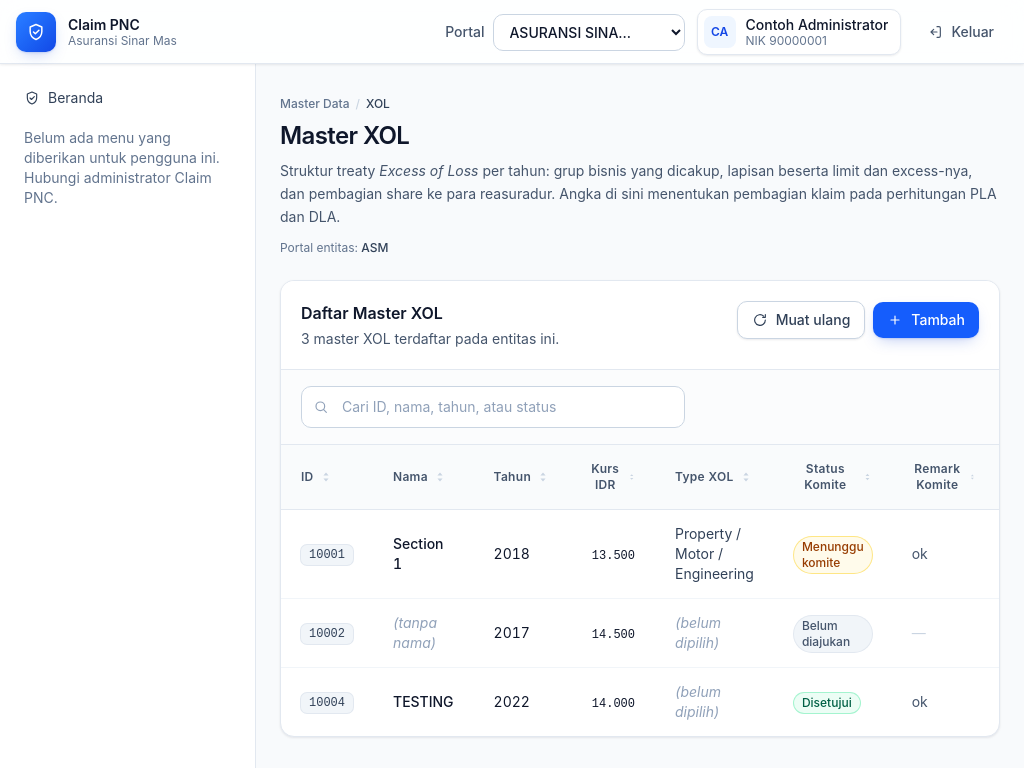
Scenario: form › memberi tahu bahwa menyimpan sekaligus mengajukan ke komite
Expected: the text "Section 1" is shown, [393,535,444,572]
Click the button "Tambah" at [926, 320], box [873,302,979,338]
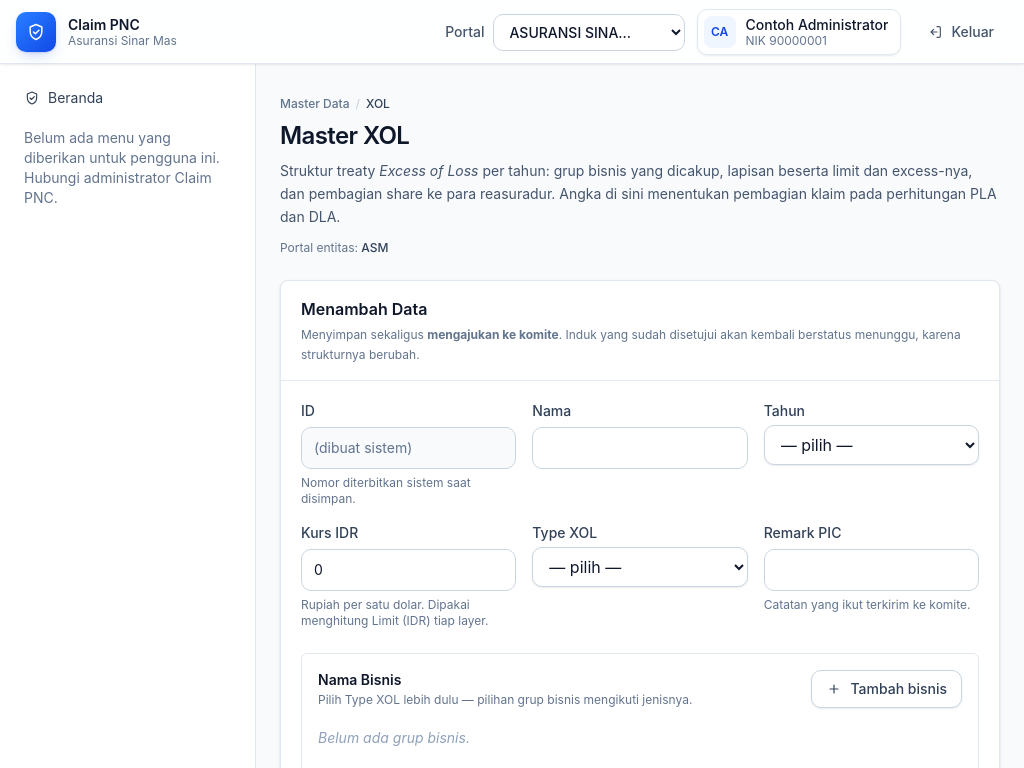
Result: the heading "Menambah Data" is shown at [301,299,427,319]
Result: the text "mengajukan ke komite" is shown at [427,327,559,342]
